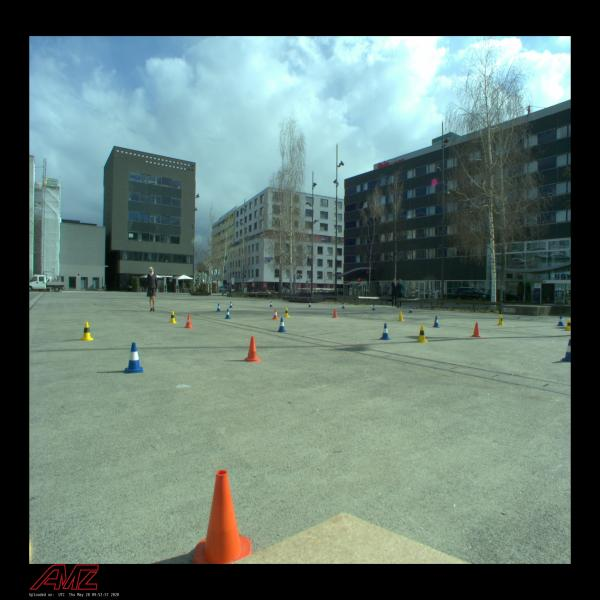blue_cone: (124, 342, 144, 373), (560, 339, 570, 362), (379, 323, 392, 340), (278, 317, 286, 332), (432, 316, 441, 327), (557, 316, 564, 326), (225, 309, 231, 319), (216, 303, 222, 312), (229, 301, 233, 308), (308, 301, 312, 307), (409, 306, 412, 313), (270, 301, 273, 307), (342, 303, 345, 309), (372, 304, 375, 310)
orange_cone: (192, 470, 252, 564), (242, 336, 262, 362), (470, 323, 482, 338), (185, 315, 193, 328), (273, 309, 279, 320), (332, 309, 338, 318)
yellow_cone: (81, 321, 94, 341), (417, 325, 428, 343), (169, 311, 177, 323), (497, 314, 505, 326), (564, 319, 570, 331), (284, 308, 290, 318), (398, 311, 404, 321)
